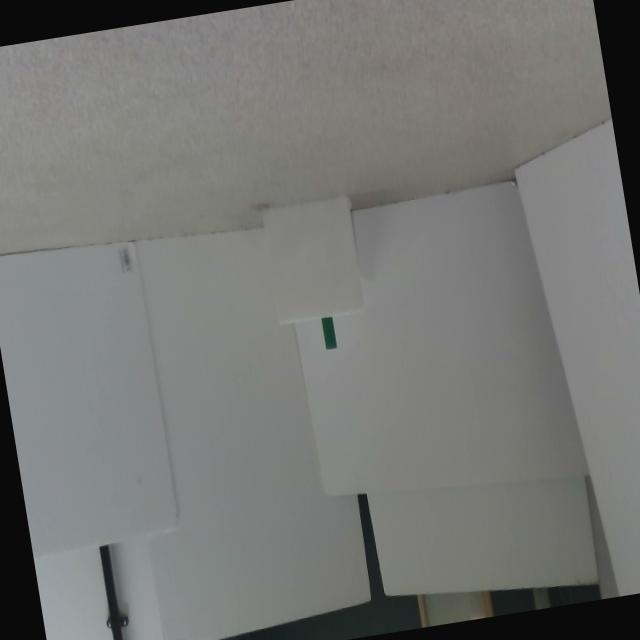green_cylinder: (320, 316, 338, 350)
